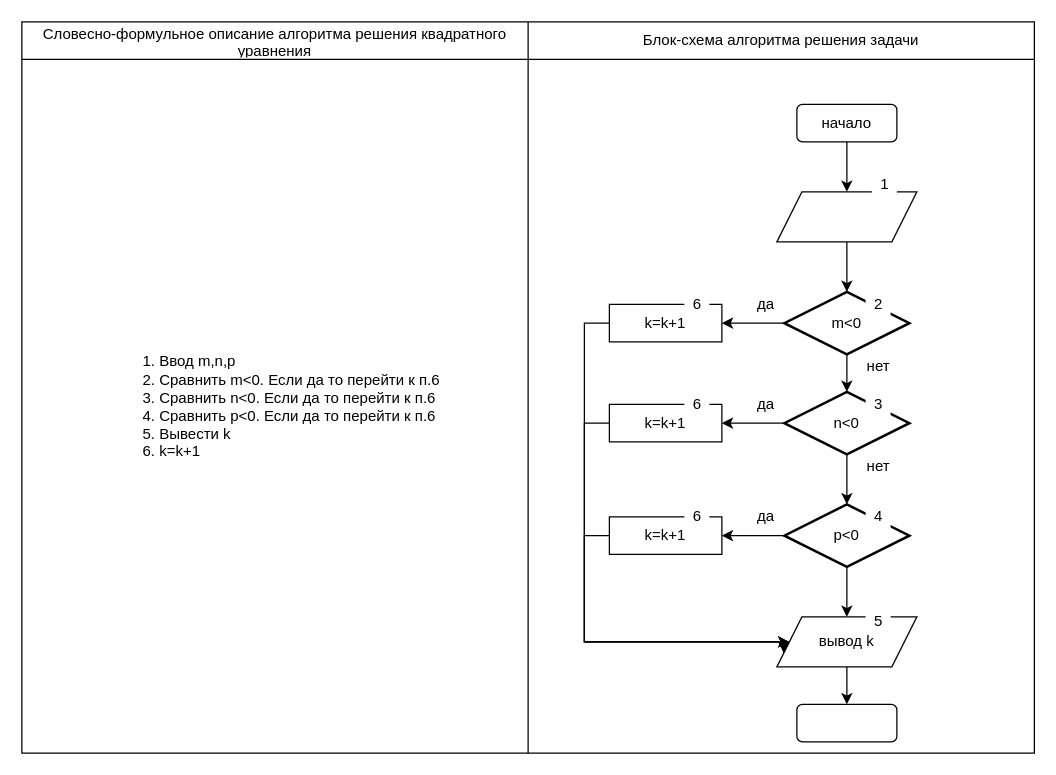
The diagram is 1056 pixels wide and 775 high, and some of its shapes have lost their labels. Here are the shapes that lost their labels. From the top down, the centre of each, then its label:
At point 846,216: "ввод m,n,p".
At point 846,722: "конец".
